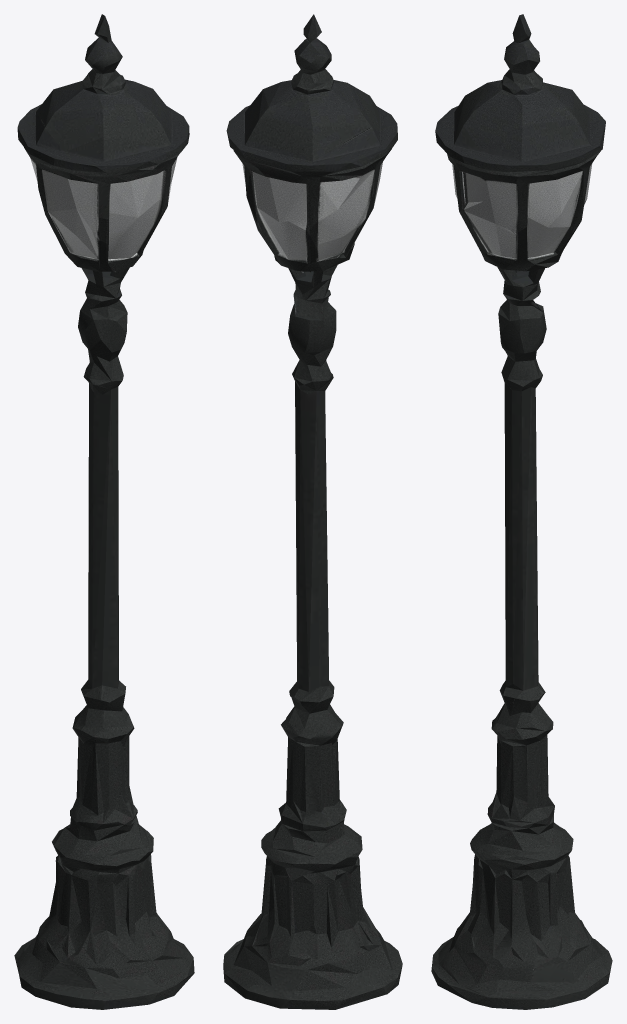
Rendered from lamppost.glb.
The picture shows the model from 3 angles, left to right: view 1: azimuth 30°, elevation 25°; view 2: azimuth 150°, elevation 25°; view 3: azimuth 270°, elevation 25°; orthographic projection.
Size of the model in its own units: 0.6845 by 4 by 0.6863.
Materials: 1 (1 with a texture image).
